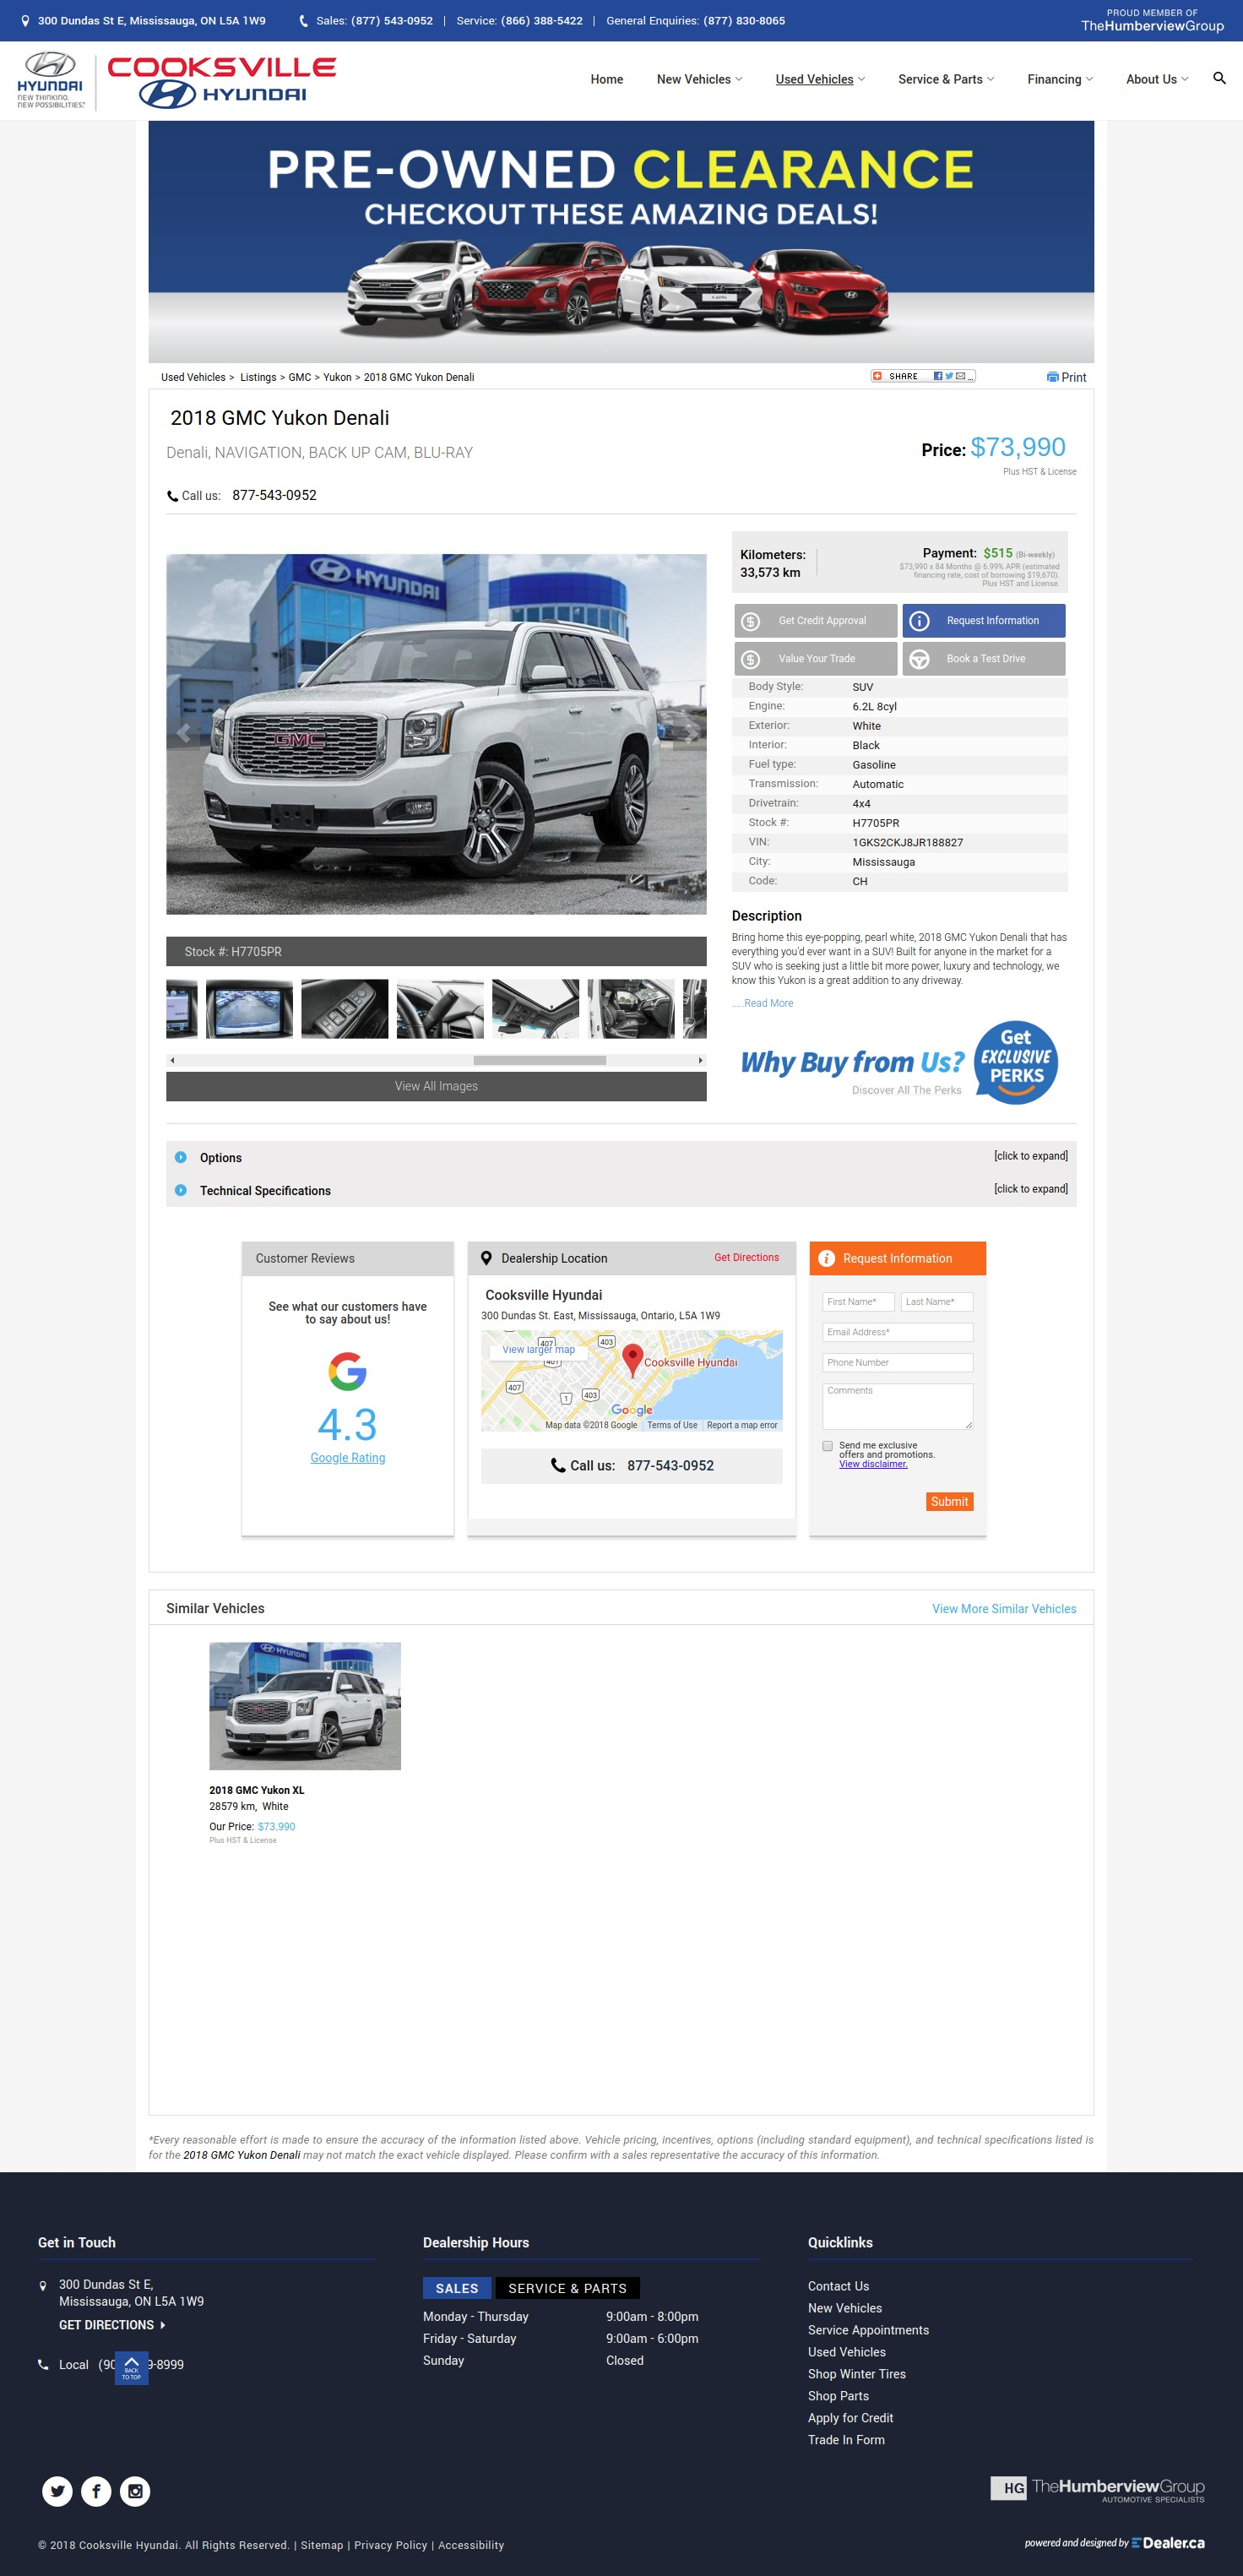car: (699, 1058, 703, 1065)
